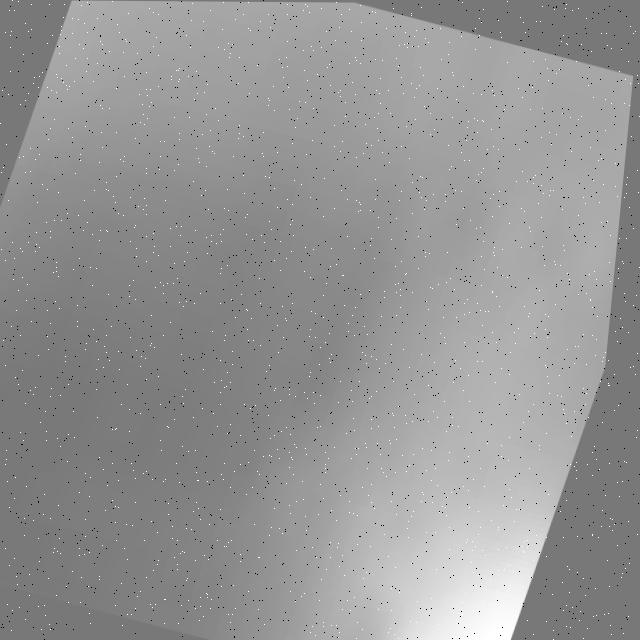person: (319, 198, 626, 640)
